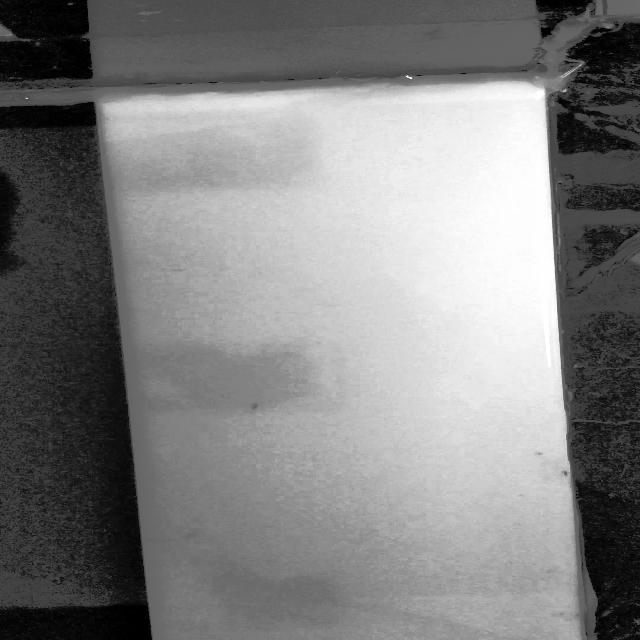shrimp: (130, 536, 166, 546), (247, 402, 277, 413), (532, 448, 553, 460), (559, 467, 574, 478)
